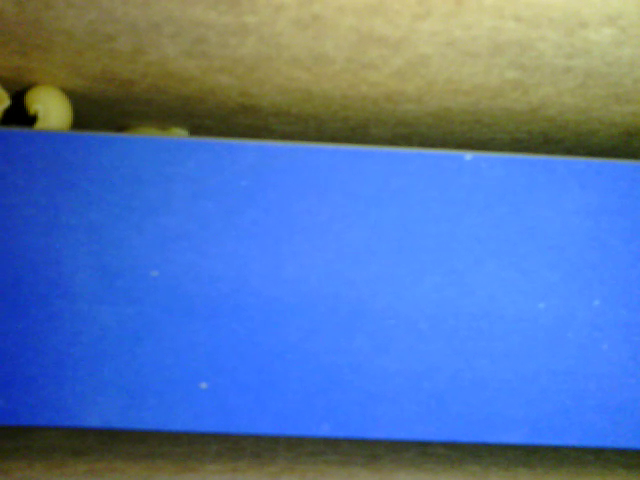shell: (24, 82, 77, 133)
